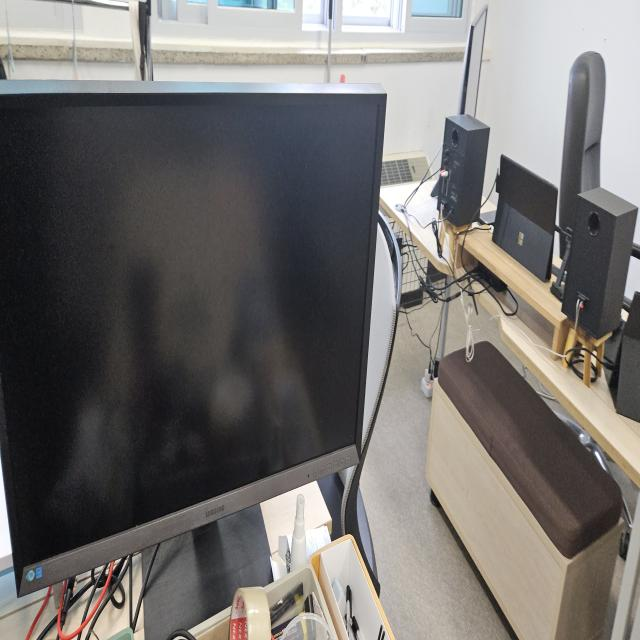Monitor: (1, 76, 388, 596)
